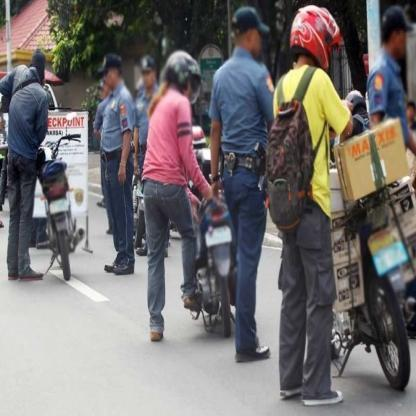helmet: (289, 4, 345, 73), (163, 50, 202, 104)
nohelmet: (230, 5, 270, 61), (380, 3, 415, 60), (96, 54, 123, 93), (138, 54, 157, 91)
